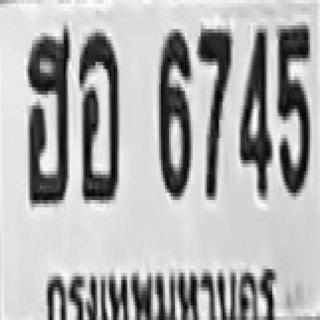A43: (78, 31, 117, 198)
A44: (25, 27, 69, 202)
N04: (239, 23, 270, 195)
N05: (276, 22, 308, 193)
N06: (157, 25, 189, 196)
N07: (197, 25, 231, 196)
P04: (41, 266, 279, 320)
